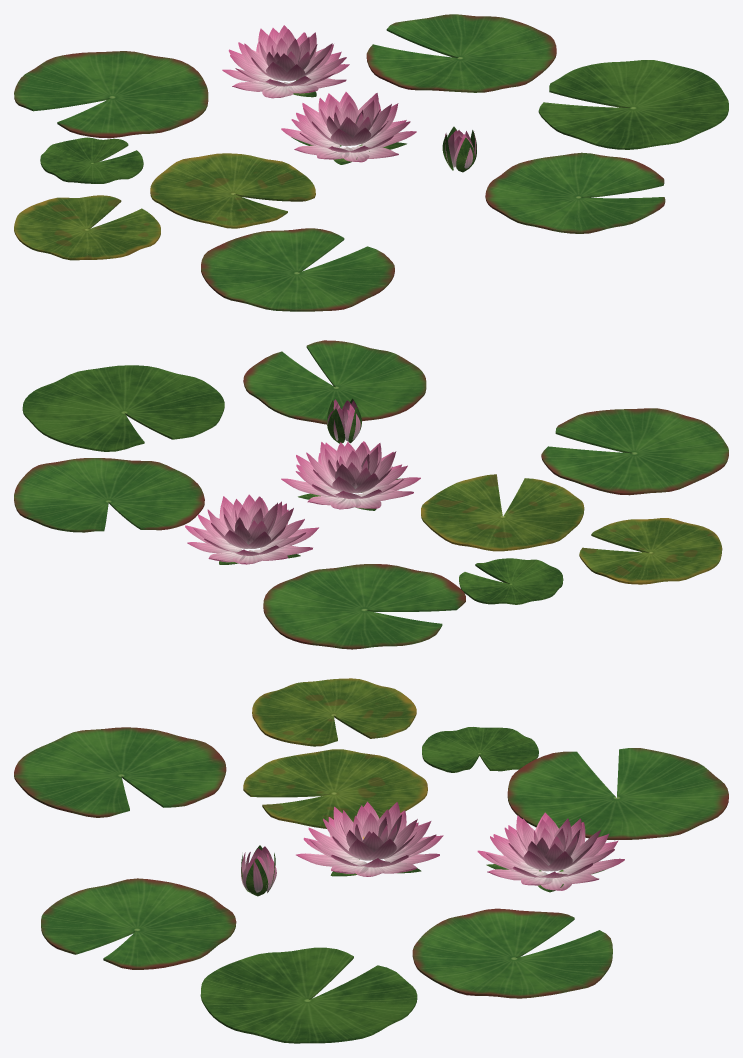
Rendered from lily_flowers_b.gltf.
3 views of the same model, one above another, from view 1: azimuth 30°, elevation 25°; view 2: azimuth 150°, elevation 25°; view 3: azimuth 270°, elevation 25° (orthographic). The views are drawn at different scales.
Parts seen in each view (by area): view 1: lily_flowers_b; view 2: lily_flowers_b; view 3: lily_flowers_b.
Part boxes in pixels (box(x1,y1,x2,y2)): lily_flowers_b: box(14, 14, 728, 311); lily_flowers_b: box(14, 340, 728, 649); lily_flowers_b: box(14, 678, 728, 1043).
Bounding box in the file's own units: 1.22 × 0.0788 × 1.01.
1 material, 1 textured.
